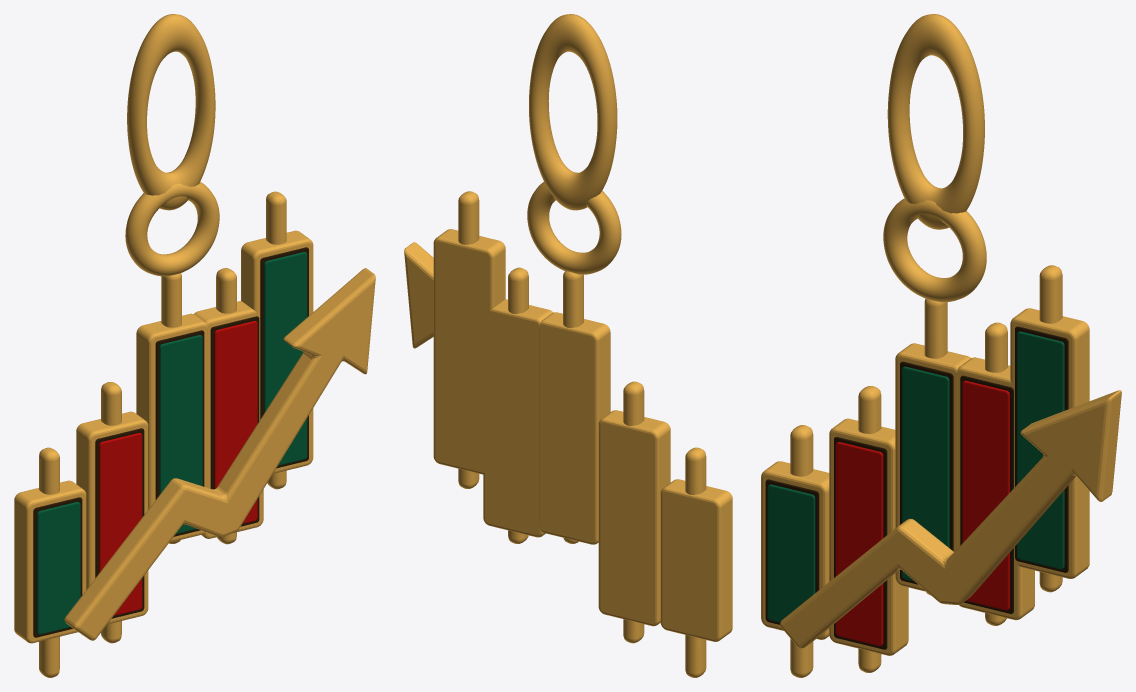
File: 06_finance.glb
The picture shows the model from 3 angles, left to right: view 1: azimuth 30°, elevation 25°; view 2: azimuth 150°, elevation 25°; view 3: azimuth 330°, elevation 25°; orthographic projection. The views are drawn at different scales.
Parts seen in each view (by area): view 1: Continuous rising gold arrow, Financial oval jump ring, Candle 3 polished enamel, Candle 4 polished enamel, Candle 5 polished enamel, Candle 2 polished enamel, Candle 1 polished enamel, Financial soldered gold eye, Candle 1 rounded gold tray, Candle 3 rounded gold tray, Candle 2 rounded gold tray, Candle 5 rounded gold tray (+11 smaller); view 2: Candle 3 rounded gold tray, Candle 5 rounded gold tray, Candle 2 rounded gold tray, Candle 4 rounded gold tray, Candle 1 rounded gold tray, Financial oval jump ring, Financial soldered gold eye, Continuous rising gold arrow, Candle 1 gold wick, Candle 5 gold wick, Candle 2 gold wick, Candle 3 gold wick (+1 smaller); view 3: Continuous rising gold arrow, Financial oval jump ring, Candle 3 polished enamel, Candle 4 polished enamel, Candle 2 polished enamel, Candle 5 polished enamel, Candle 1 polished enamel, Financial soldered gold eye, Candle 5 rounded gold tray, Candle 2 rounded gold tray, Candle 1 rounded gold tray, Candle 3 rounded gold tray (+11 smaller).
Part boxes in pixels (x1,y1,x2,y2): Continuous rising gold arrow: (64, 268, 375, 640); Financial oval jump ring: (127, 14, 215, 210); Candle 3 polished enamel: (159, 335, 202, 533); Candle 4 polished enamel: (214, 321, 257, 523); Candle 5 polished enamel: (264, 252, 307, 465); Candle 2 polished enamel: (99, 433, 142, 615); Candle 1 polished enamel: (37, 502, 80, 634); Financial soldered gold eye: (125, 182, 219, 276); Candle 1 rounded gold tray: (14, 480, 86, 643); Candle 3 rounded gold tray: (136, 313, 206, 542); Candle 2 rounded gold tray: (76, 411, 148, 624); Candle 5 rounded gold tray: (241, 230, 313, 473); Candle 3 rounded gold tray: (539, 312, 610, 544); Candle 5 rounded gold tray: (433, 229, 505, 474); Candle 2 rounded gold tray: (598, 410, 670, 626); Candle 4 rounded gold tray: (483, 299, 552, 537); Candle 1 rounded gold tray: (660, 479, 732, 641); Financial oval jump ring: (529, 14, 617, 210); Financial soldered gold eye: (527, 182, 621, 274); Continuous rising gold arrow: (404, 242, 433, 348); Candle 1 gold wick: (685, 447, 706, 677); Candle 5 gold wick: (458, 191, 479, 488); Candle 2 gold wick: (623, 381, 644, 643); Candle 3 gold wick: (563, 271, 583, 543); Continuous rising gold arrow: (780, 390, 1121, 648); Financial oval jump ring: (887, 14, 984, 229); Candle 3 polished enamel: (902, 366, 949, 581); Candle 4 polished enamel: (962, 380, 1009, 610); Candle 2 polished enamel: (835, 442, 883, 646); Candle 5 polished enamel: (1017, 331, 1064, 569); Candle 1 polished enamel: (767, 484, 815, 622); Financial soldered gold eye: (883, 198, 986, 302); Candle 5 rounded gold tray: (1010, 308, 1089, 578); Candle 2 rounded gold tray: (829, 418, 908, 655); Candle 1 rounded gold tray: (761, 461, 829, 639); Candle 3 rounded gold tray: (895, 343, 970, 591).
Bounding box in the file's own units: 0.0315 × 0.0567 × 0.00495.
